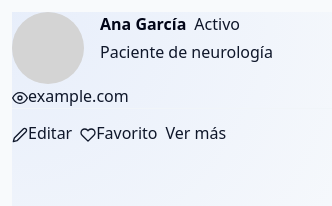
Test: PatientCard › when createdAt is absent, toggle still works but panel shows no extra content
The image size is (332, 206).
Click the button "Ver más".
click(196, 133)  # box 166,121 -> 226,145
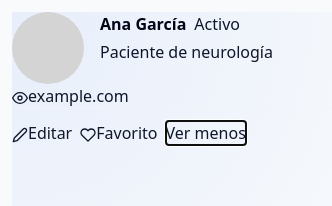
Expected: the button named "ver más" reads "Ver menos", 166,121 -> 246,145
